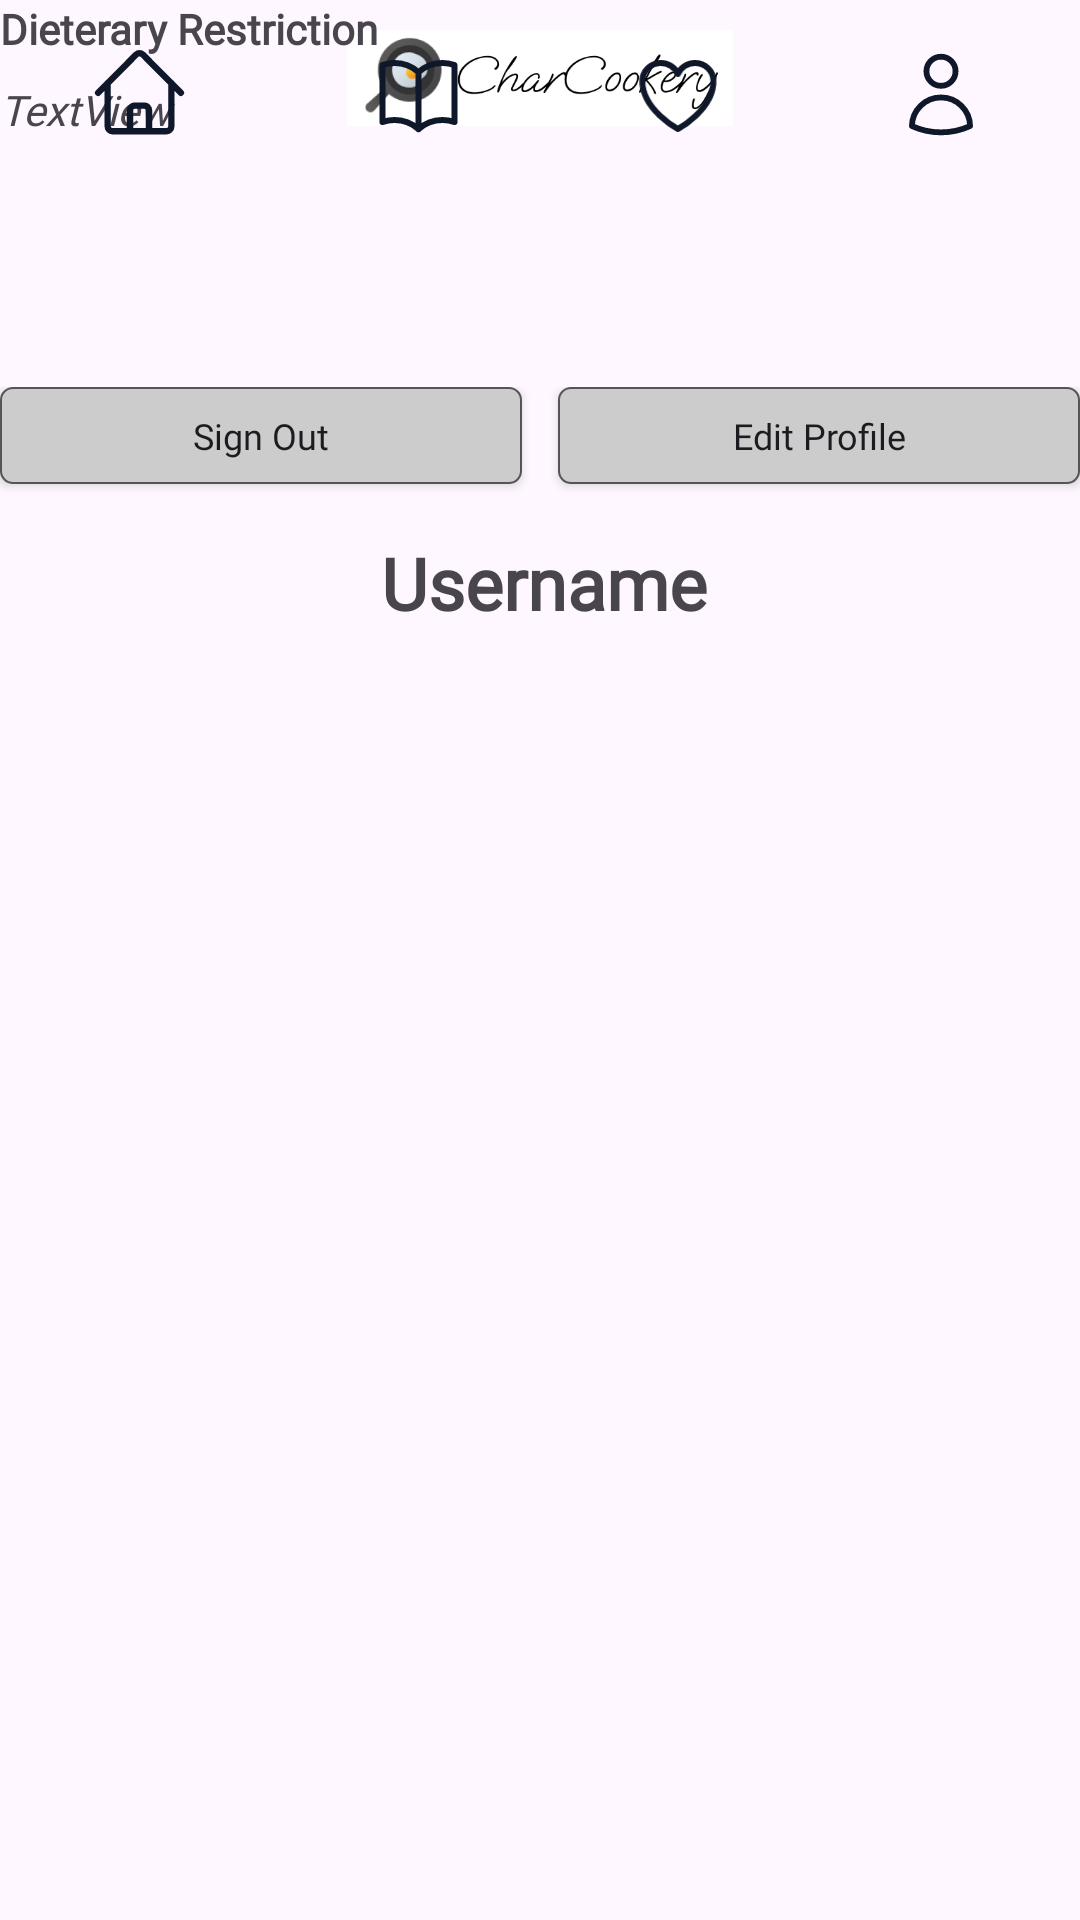

Named icons in this screenshot (1080w x 1920h) and their bounding boxes, (x1, y1, x2, y2):
user: (909, 53, 973, 136)
